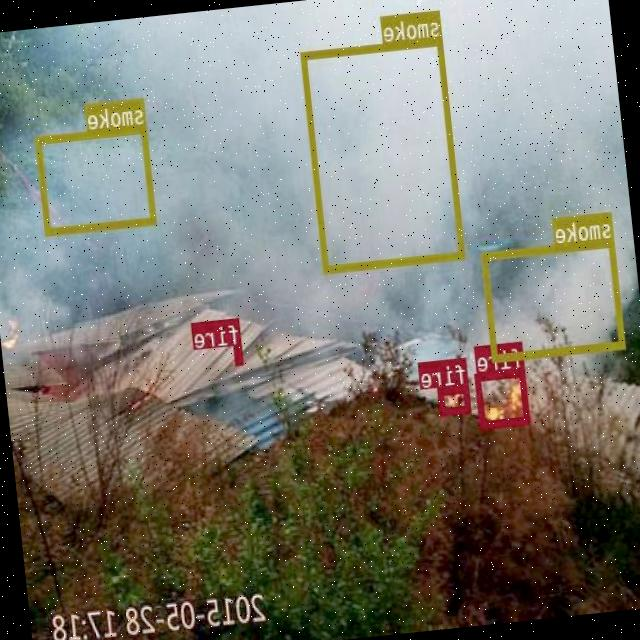fire: (476, 368, 530, 427), (438, 383, 472, 413), (234, 344, 244, 364)
smoke: (302, 36, 466, 272), (482, 237, 626, 360), (36, 124, 157, 233)
